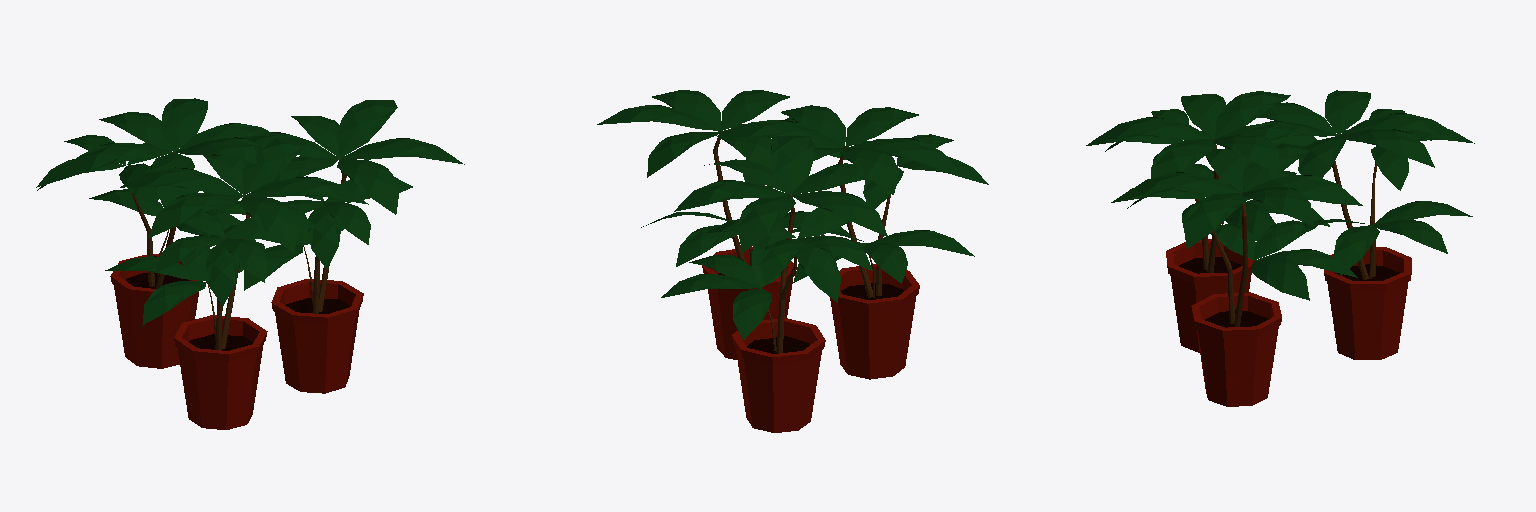
File: CplantaMaceta.obj
3 renders of one model, left to right at view 1: azimuth 30°, elevation 25°; view 2: azimuth 150°, elevation 25°; view 3: azimuth 270°, elevation 25°, orthographic.
Visible parts, largest first — view 1: pasted__Mesh group1, pasted__Mesh group2, Mesh; view 2: Mesh, pasted__Mesh group1, pasted__Mesh group2; view 3: pasted__Mesh group2, Mesh, pasted__Mesh group1.
Part boxes in pixels (x1,y1,x2,y2): pasted__Mesh group1: (105, 138, 368, 429); pasted__Mesh group2: (210, 100, 464, 393); Mesh: (36, 98, 268, 368); Mesh: (661, 136, 899, 432); pasted__Mesh group1: (722, 105, 988, 379); pasted__Mesh group2: (597, 90, 849, 359); pasted__Mesh group2: (1111, 143, 1362, 406); Mesh: (1229, 90, 1474, 359); pasted__Mesh group1: (1086, 91, 1329, 352).
Size of the model in its own units: 7.84 by 5.45 by 8.15.